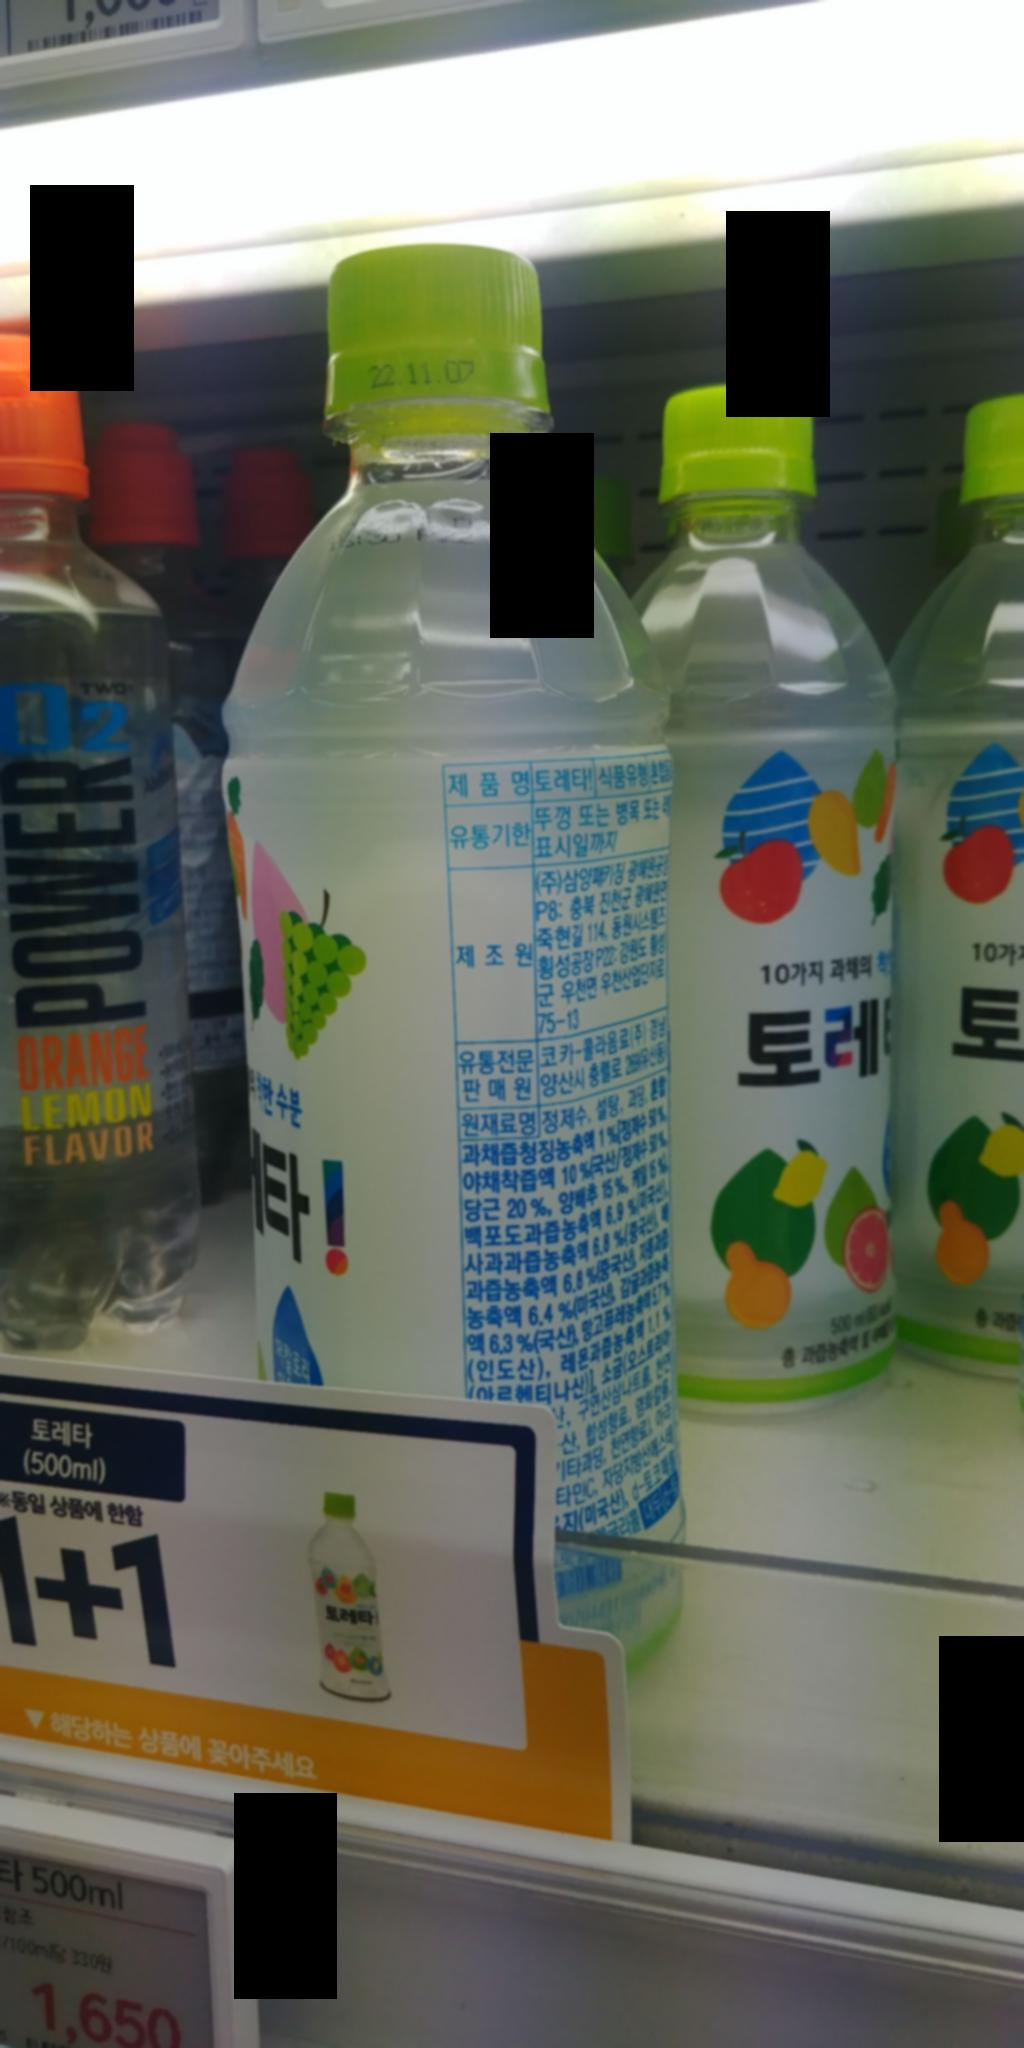powerO2_orange: (0, 320, 226, 1358)
toreta: (205, 253, 699, 1661), (616, 371, 916, 1398)
